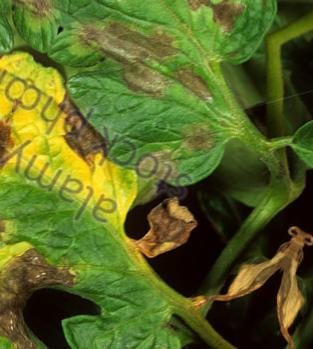Tomato leaf late blight: (0, 59, 279, 349), (15, 0, 313, 225)
